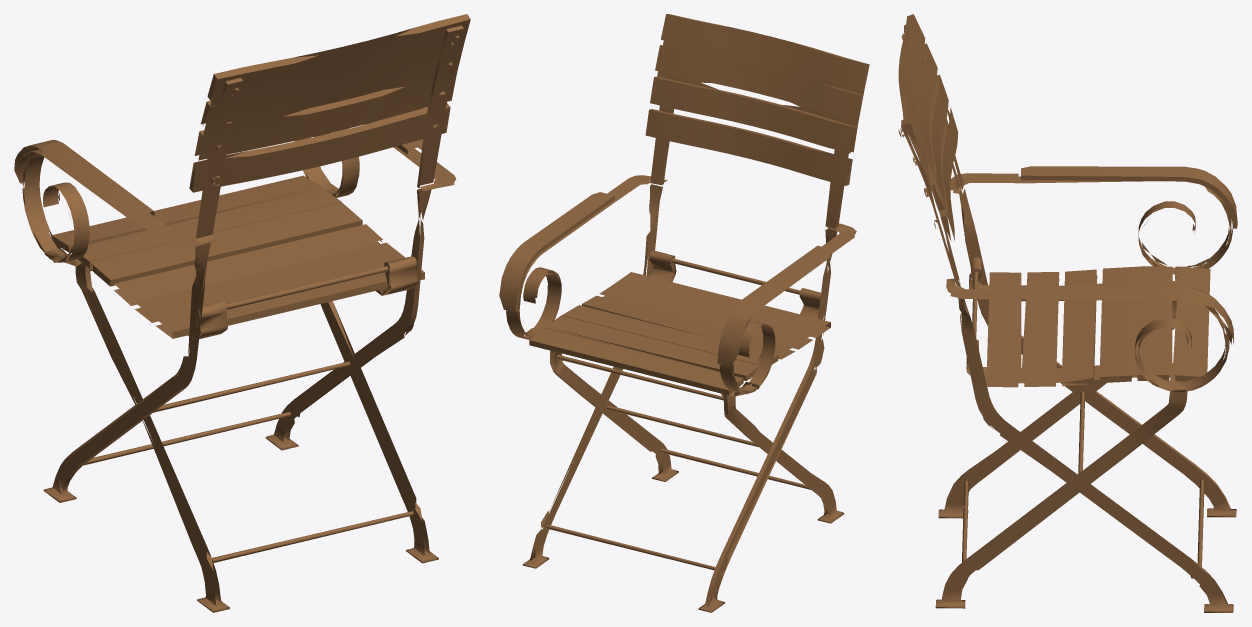
File: B_CafeChair_LOD1.obj
3 renders of one model, left to right at view 1: azimuth 30°, elevation 25°; view 2: azimuth 150°, elevation 25°; view 3: azimuth 270°, elevation 25°, orthographic. The views are drawn at different scales.
Parts seen in each view (by area): view 1: B_CafeChair_m0; view 2: B_CafeChair_m0; view 3: B_CafeChair_m0.
Part boxes in pixels (x1,y1,x2,y2): B_CafeChair_m0: (14,14,470,612); B_CafeChair_m0: (499,14,869,612); B_CafeChair_m0: (898,14,1237,612).
Bounding box in the file's own units: 0.5842 × 1.03 × 0.642.
